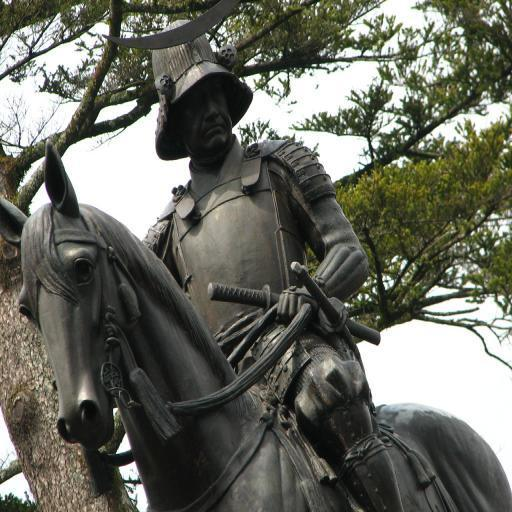horse: (0, 133, 512, 510)
